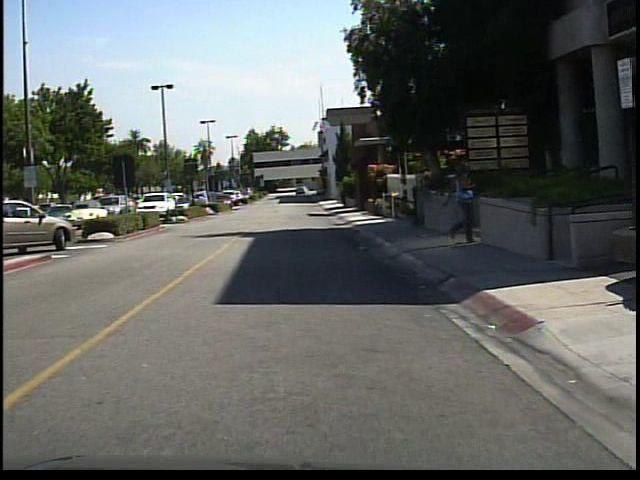person: (446, 152, 479, 251)
